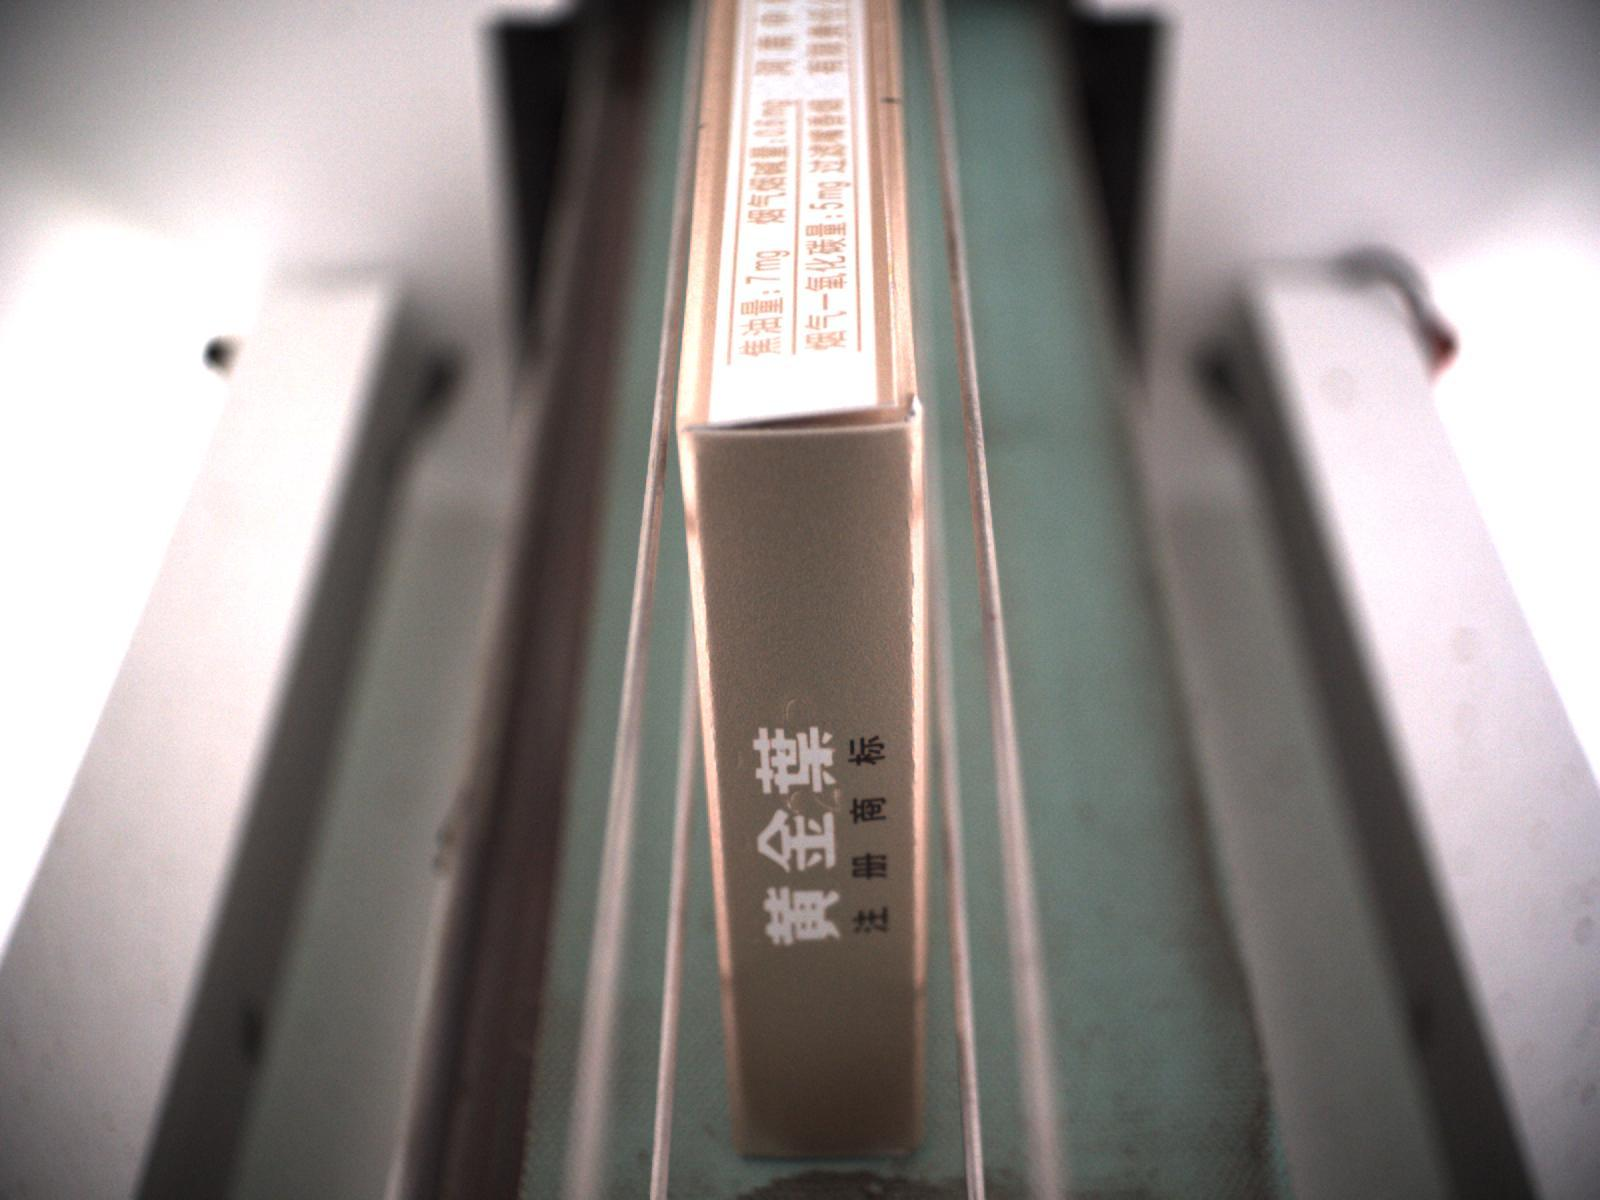bottomUpwarp_upper_3: (677, 396, 918, 437)
